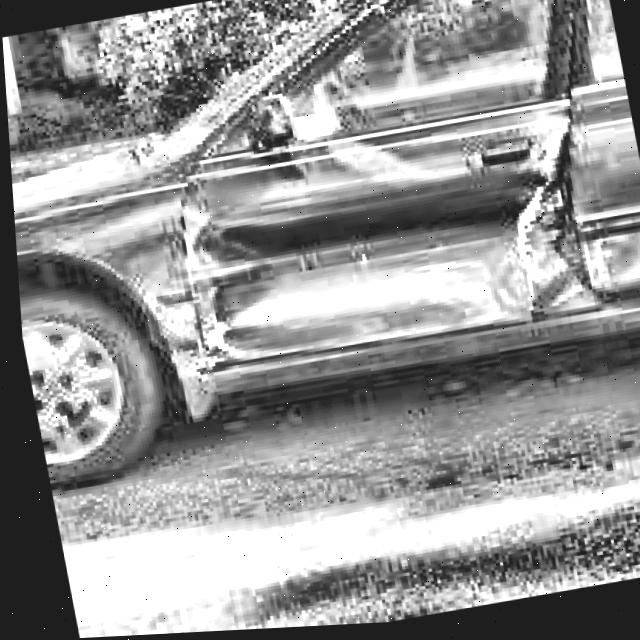door_dent: (216, 162, 576, 327)
